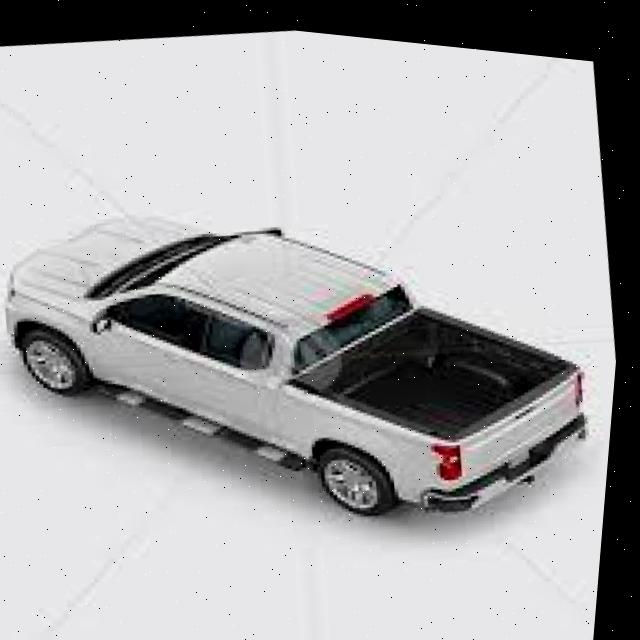truck: (0, 127, 623, 587)
